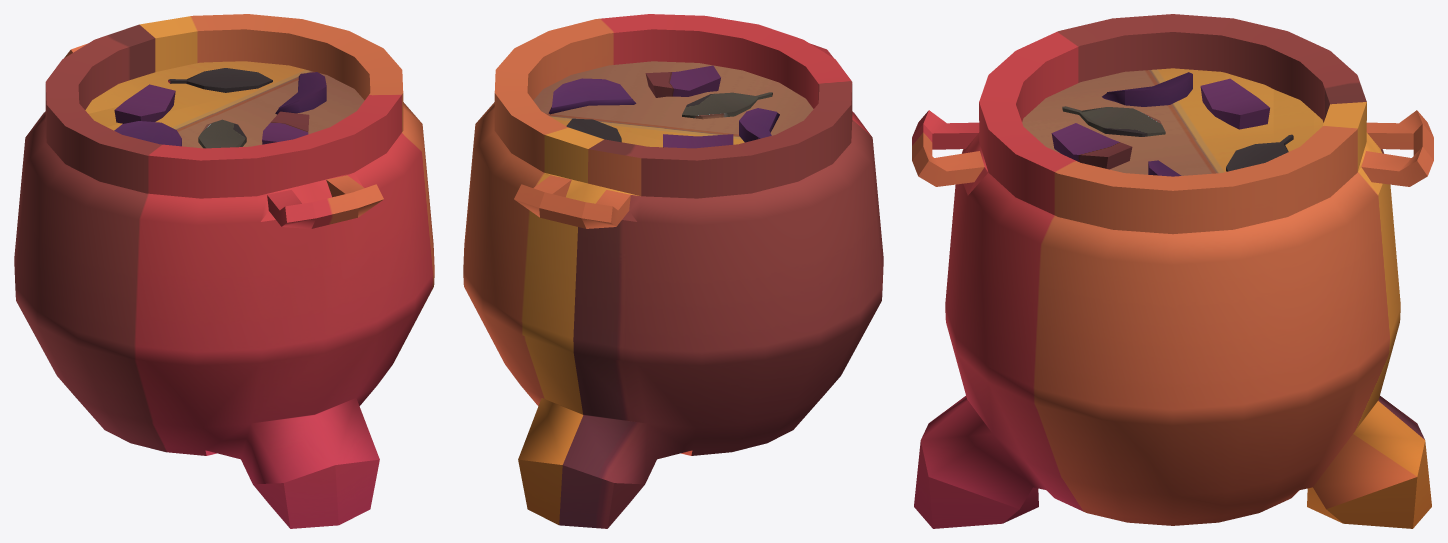
File: pata1.fbx
The picture shows the model from 3 angles, left to right: view 1: azimuth 30°, elevation 25°; view 2: azimuth 150°, elevation 25°; view 3: azimuth 270°, elevation 25°; orthographic projection. The views are drawn at different scales.
Parts seen in each view (by area): view 1: pata2; view 2: pata2; view 3: pata2.
Part boxes in pixels (bbox=[...]): pata2: bbox=[14, 14, 434, 528]; pata2: bbox=[463, 14, 883, 528]; pata2: bbox=[912, 14, 1433, 528].
Size of the model in its own units: 1.47 by 1.33 by 1.56.
